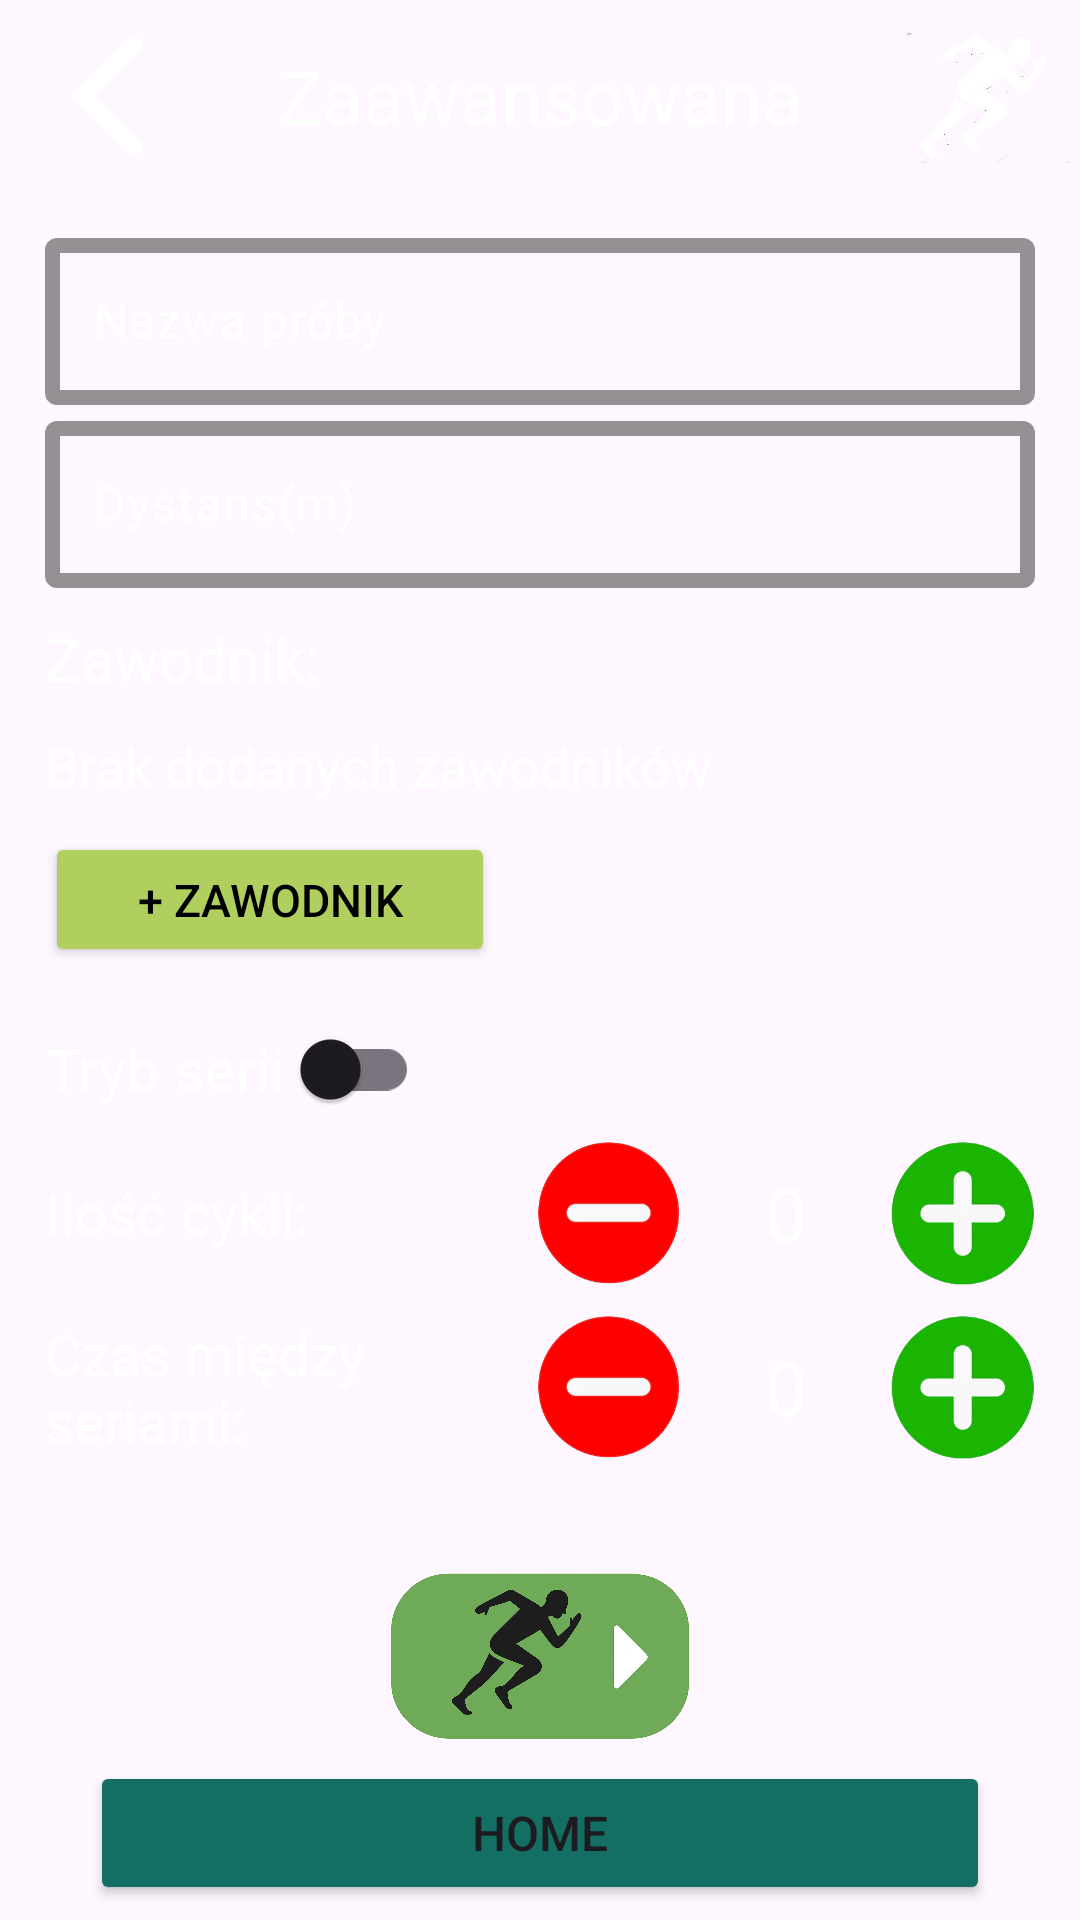

Icons on this 1080*1920 Android screen, each with the point to tap as point (x, y):
minus: point (608, 1212), point (608, 1386)
next: point (540, 1656)
plus: point (962, 1213), point (962, 1387)
